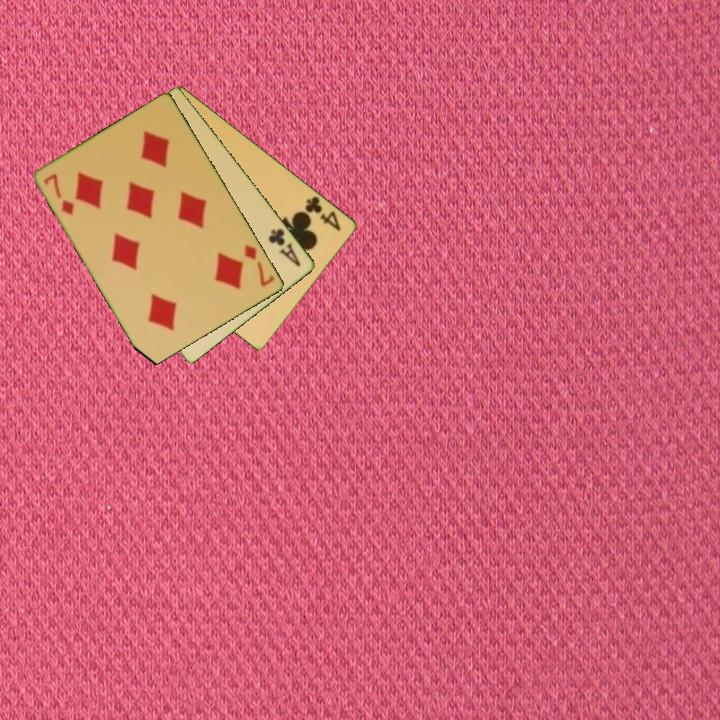4c: (302, 192, 344, 234)
7d: (241, 241, 278, 290), (40, 170, 77, 219)
Ac: (265, 225, 304, 270)
